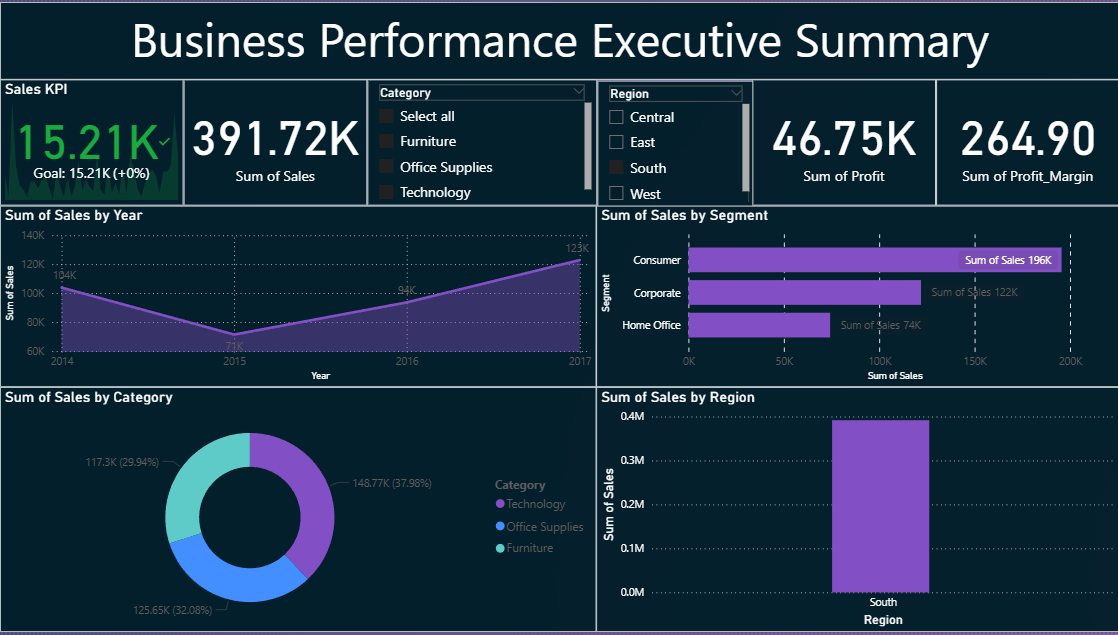

The page's visual inventory and layout, read from the dashboard file:
{"tool":"powerbi","page":{"name":"Page 1","canvas":[1280,720],"ordinal":0},"visuals":[{"type":"lineChart","fields":{"Category":["Superstore_clean.MonthYear.Variation.Date Hierarchy.Year","Superstore_clean.MonthYear.Variation.Date Hierarchy.Quarter","Superstore_clean.MonthYear.Variation.Date Hierarchy.Month","Superstore_clean.MonthYear.Variation.Date Hierarchy.Day"],"Y":["Sum(Superstore_clean.Sales)"]},"box":[0,233.3,682,207.2],"z":0},{"type":"clusteredColumnChart","fields":{"Category":["Superstore_clean.Region"],"Y":["Sum(Superstore_clean.Sales)"]},"box":[682,440.5,598.3,279.9],"z":1000},{"type":"donutChart","fields":{"Category":["Superstore_clean.Category"],"Y":["Sum(Superstore_clean.Sales)"]},"box":[0,440.5,682,279.9],"z":2000},{"type":"kpi","title":"Sales KPI","fields":{"Indicator":["Sum(Superstore_clean.Sales)"],"TrendLine":["Superstore_clean.YearMonth"],"Goal":["Sum(Superstore_clean.Sales)"]},"box":[0,89.2,209.9,144.1],"z":3000},{"type":"slicer","fields":{"Values":["Superstore_clean.Region"]},"box":[682.9,89.6,179.1,144.3],"z":4000},{"type":"slicer","fields":{"Values":["Superstore_clean.Category"]},"box":[419.9,89.2,262.1,144.1],"z":5000},{"type":"card","fields":{"Values":["Sum(Superstore_clean.Sales)"]},"box":[209.9,89.2,209.9,144.1],"z":6000},{"type":"card","fields":{"Values":["Sum(Superstore_clean.Profit)"]},"box":[860.4,89.2,209.9,144.1],"z":7000},{"type":"card","fields":{"Values":["Sum(Superstore_clean.Profit_Margin)"]},"box":[1070.3,89.2,209.9,144.1],"z":8000},{"type":"clusteredBarChart","fields":{"Category":["Superstore_clean.Segment"],"Y":["Sum(Superstore_clean.Sales)"]},"box":[682,233.3,598.3,207.2],"z":9000},{"type":"textbox","box":[0,0,1280.3,89.2],"z":10000}]}

Visuals, with their boxes in screenshot pixels (x1, y1, x2, y2), scaled from the page's 1280x720 canvas onto the 1118x635 screenshot:
lineChart - Superstore_clean.MonthYear.Variation.Date Hierarchy.Year x Superstore_clean.MonthYear.Variation.Date Hierarchy.Quarter: select_region(0, 206, 596, 388)
clusteredColumnChart - Superstore_clean.Region x Sum(Superstore_clean.Sales): select_region(596, 388, 1117, 634)
donutChart - Superstore_clean.Category x Sum(Superstore_clean.Sales): select_region(0, 388, 596, 634)
"Sales KPI" kpi: select_region(0, 79, 183, 206)
slicer - Superstore_clean.Region: select_region(596, 79, 753, 206)
slicer - Superstore_clean.Category: select_region(367, 79, 596, 206)
card - Sum(Superstore_clean.Sales): select_region(183, 79, 367, 206)
card - Sum(Superstore_clean.Profit): select_region(752, 79, 935, 206)
card - Sum(Superstore_clean.Profit_Margin): select_region(935, 79, 1117, 206)
clusteredBarChart - Superstore_clean.Segment x Sum(Superstore_clean.Sales): select_region(596, 206, 1117, 388)
textbox: select_region(0, 0, 1117, 79)
